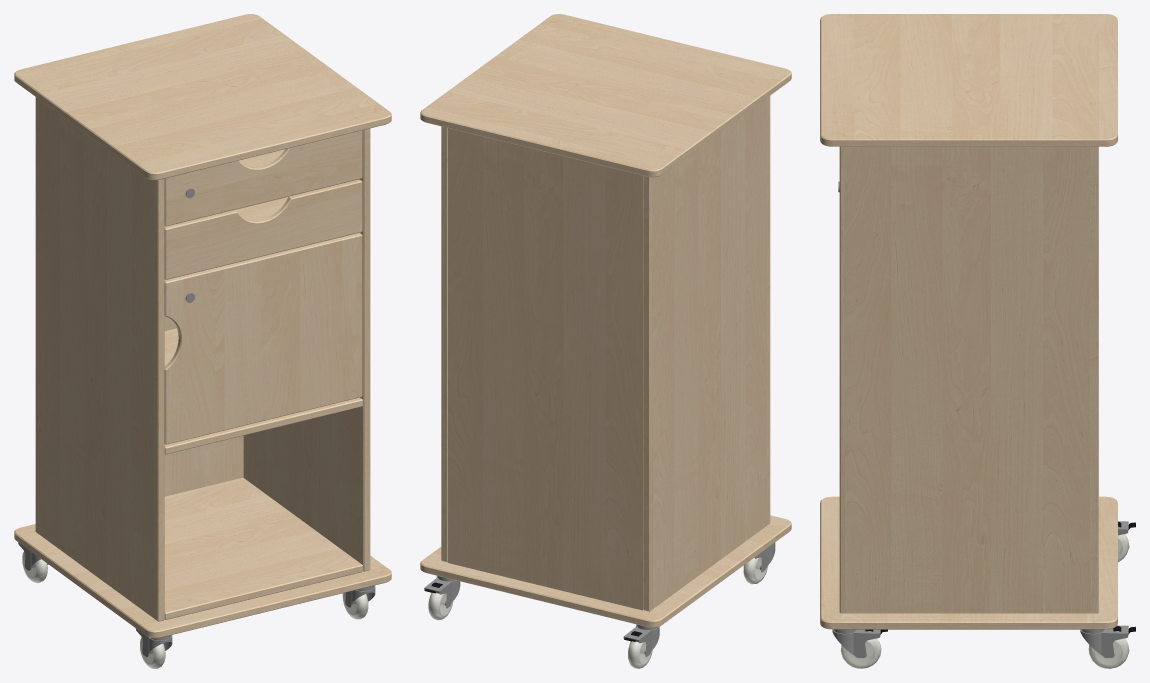
File: Furniture_Tables_ABA-Skol_Writing-desk.fbx
3 renders of one model, left to right at view 1: azimuth 30°, elevation 25°; view 2: azimuth 150°, elevation 25°; view 3: azimuth 270°, elevation 25°, orthographic. The views are drawn at different scales.
Visible parts, largest first — view 1: L_62c0ed08_3097_4374_b5e1_db2d5e6a1ad5_C1_I12, L_6c419222_3cbe_4a7a_9ceb_523eed172094_C1_I16, L_b0f959a0_78bc_4167_bdc9_cc16eb5f7192_C1_I32, L_06664589_39a1_45fa_ad1a_d3b9377871a0_C1_I1, L_9cdc95fd_89f6_4b82_a6d8_e7169209a365_C1_I30, L_20e9c97a_1acb_4a45_9a5a_8820dc6b5384_C1_I3, L_9ca1be89_6e22_4d98_87f1_9be51a2643a0_C1_I29, L_7e7fe8ce_7fd8_4123_a60a_92a61af43ffd_C1_I19, L_684ee605_dbb4_4f87_939e_3ac7ff3c7186_C1_I14, L_0f8d93d8_7ba0_450f_983f_0a8128f60ae7_C1_I2, L_c00e32e8_bdf3_4a12_bafb_df5ad71075bb_C1_I34, L_def6071c_3a1b_454c_898d_12f8dbb8283f_C1_I41; view 2: L_684ee605_dbb4_4f87_939e_3ac7ff3c7186_C1_I14, L_62c0ed08_3097_4374_b5e1_db2d5e6a1ad5_C1_I12, L_6c419222_3cbe_4a7a_9ceb_523eed172094_C1_I16, L_7e7fe8ce_7fd8_4123_a60a_92a61af43ffd_C1_I19, L_9cdc95fd_89f6_4b82_a6d8_e7169209a365_C1_I30; view 3: L_9cdc95fd_89f6_4b82_a6d8_e7169209a365_C1_I30, L_6c419222_3cbe_4a7a_9ceb_523eed172094_C1_I16, L_7e7fe8ce_7fd8_4123_a60a_92a61af43ffd_C1_I19, L_d85387b6_9410_412f_ae54_7a1cd39d32cb_I40, L_c1515b96_66ab_4409_970c_a5723b3282f6_I36.
Boxes of the visible parts, x1,y1,x2,y2 form: L_62c0ed08_3097_4374_b5e1_db2d5e6a1ad5_C1_I12: (35, 97, 164, 621); L_6c419222_3cbe_4a7a_9ceb_523eed172094_C1_I16: (14, 14, 391, 179); L_b0f959a0_78bc_4167_bdc9_cc16eb5f7192_C1_I32: (164, 233, 362, 444); L_06664589_39a1_45fa_ad1a_d3b9377871a0_C1_I1: (164, 477, 362, 619); L_9cdc95fd_89f6_4b82_a6d8_e7169209a365_C1_I30: (243, 128, 370, 571); L_20e9c97a_1acb_4a45_9a5a_8820dc6b5384_C1_I3: (164, 179, 362, 279); L_9ca1be89_6e22_4d98_87f1_9be51a2643a0_C1_I29: (164, 130, 362, 226); L_7e7fe8ce_7fd8_4123_a60a_92a61af43ffd_C1_I19: (14, 524, 391, 638); L_684ee605_dbb4_4f87_939e_3ac7ff3c7186_C1_I14: (164, 316, 243, 496); L_0f8d93d8_7ba0_450f_983f_0a8128f60ae7_C1_I2: (164, 328, 362, 454); L_c00e32e8_bdf3_4a12_bafb_df5ad71075bb_C1_I34: (164, 197, 360, 280); L_def6071c_3a1b_454c_898d_12f8dbb8283f_C1_I41: (164, 149, 357, 226); L_684ee605_dbb4_4f87_939e_3ac7ff3c7186_C1_I14: (448, 128, 643, 610); L_62c0ed08_3097_4374_b5e1_db2d5e6a1ad5_C1_I12: (643, 96, 770, 611); L_6c419222_3cbe_4a7a_9ceb_523eed172094_C1_I16: (420, 14, 791, 177); L_7e7fe8ce_7fd8_4123_a60a_92a61af43ffd_C1_I19: (420, 515, 791, 627); L_9cdc95fd_89f6_4b82_a6d8_e7169209a365_C1_I30: (441, 126, 447, 562); L_9cdc95fd_89f6_4b82_a6d8_e7169209a365_C1_I30: (839, 146, 1098, 613); L_6c419222_3cbe_4a7a_9ceb_523eed172094_C1_I16: (820, 14, 1117, 146); L_7e7fe8ce_7fd8_4123_a60a_92a61af43ffd_C1_I19: (820, 496, 1117, 629); L_d85387b6_9410_412f_ae54_7a1cd39d32cb_I40: (1080, 625, 1128, 657); L_c1515b96_66ab_4409_970c_a5723b3282f6_I36: (832, 629, 880, 657).
Bounding box in the file's own units: 551 × 584 × 1102.
4 materials, 1 textured.
